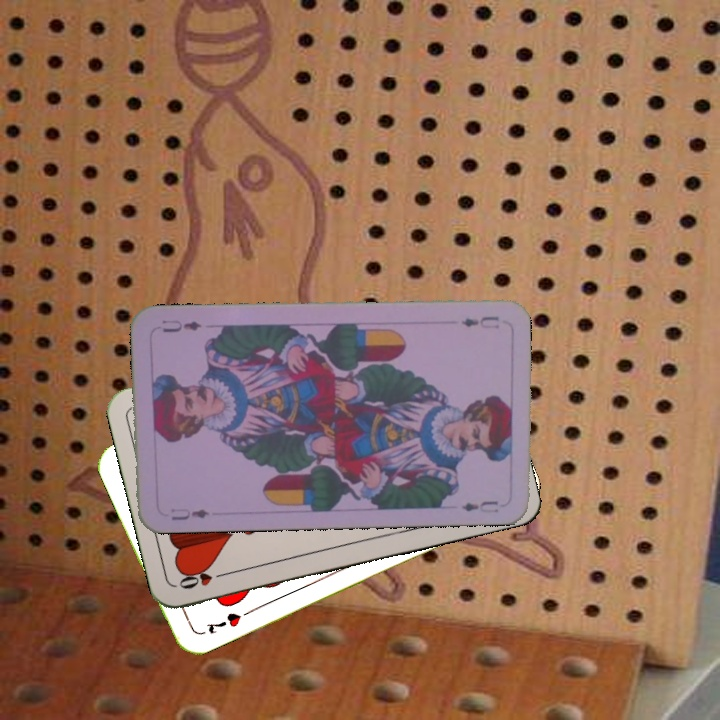EU: (167, 504, 212, 523), (457, 312, 502, 331)
H7: (202, 607, 253, 637)
HO: (175, 565, 232, 592)
